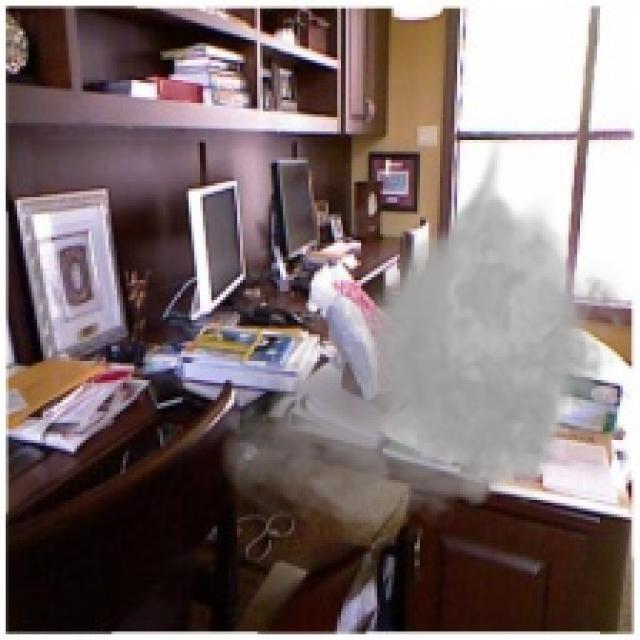smoke: (214, 134, 637, 552)
